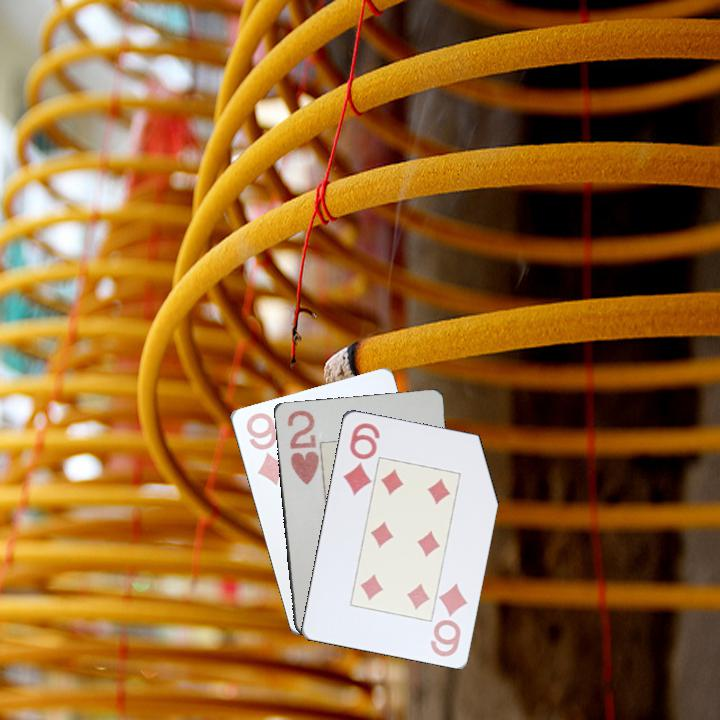2h: (283, 406, 321, 487)
6d: (427, 579, 470, 659), (339, 419, 382, 498)
9d: (242, 409, 288, 488)
